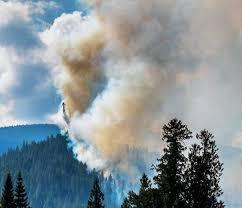yanwu: (43, 0, 242, 168)
